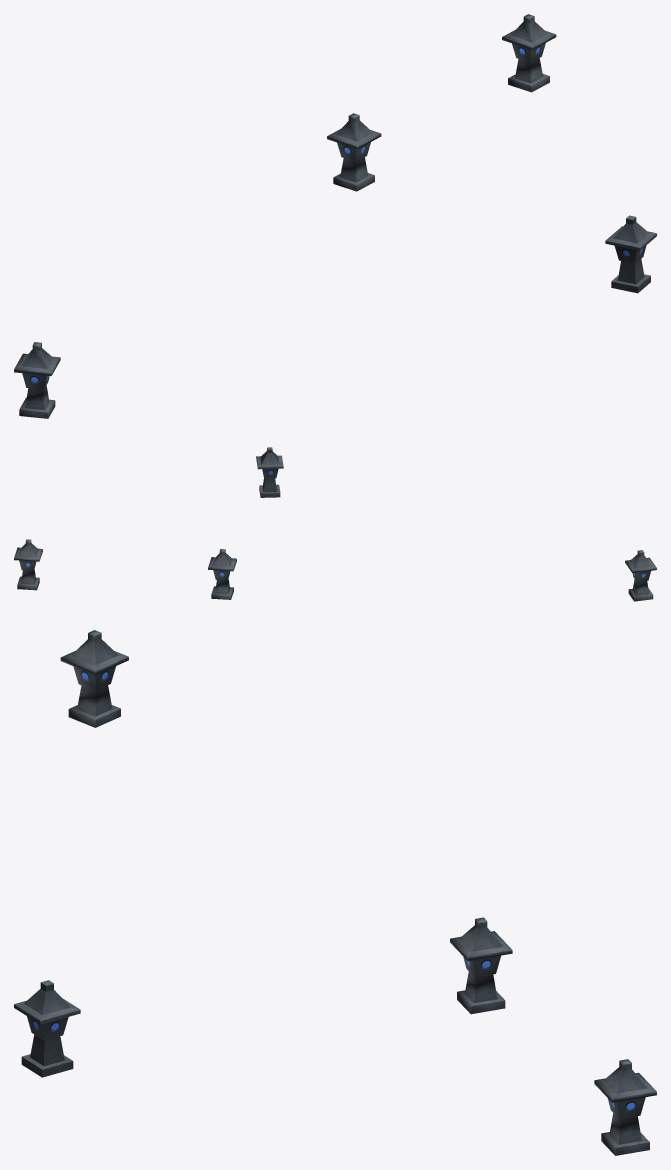
Rendered from xiaowujian10.fbx.
3 renders of one model, top to bottom at view 1: azimuth 30°, elevation 25°; view 2: azimuth 150°, elevation 25°; view 3: azimuth 270°, elevation 25°, orthographic. The views are drawn at different scales.
Visible parts, largest first — view 1: xiaowujian10; view 2: xiaowujian10; view 3: xiaowujian10.
Boxes of the visible parts, x1,y1,x2,y2 form: xiaowujian10: (14,14,656,418); xiaowujian10: (14,447,656,601); xiaowujian10: (14,630,656,1155).
Size of the model in its own units: 2982 by 256 by 1775.
